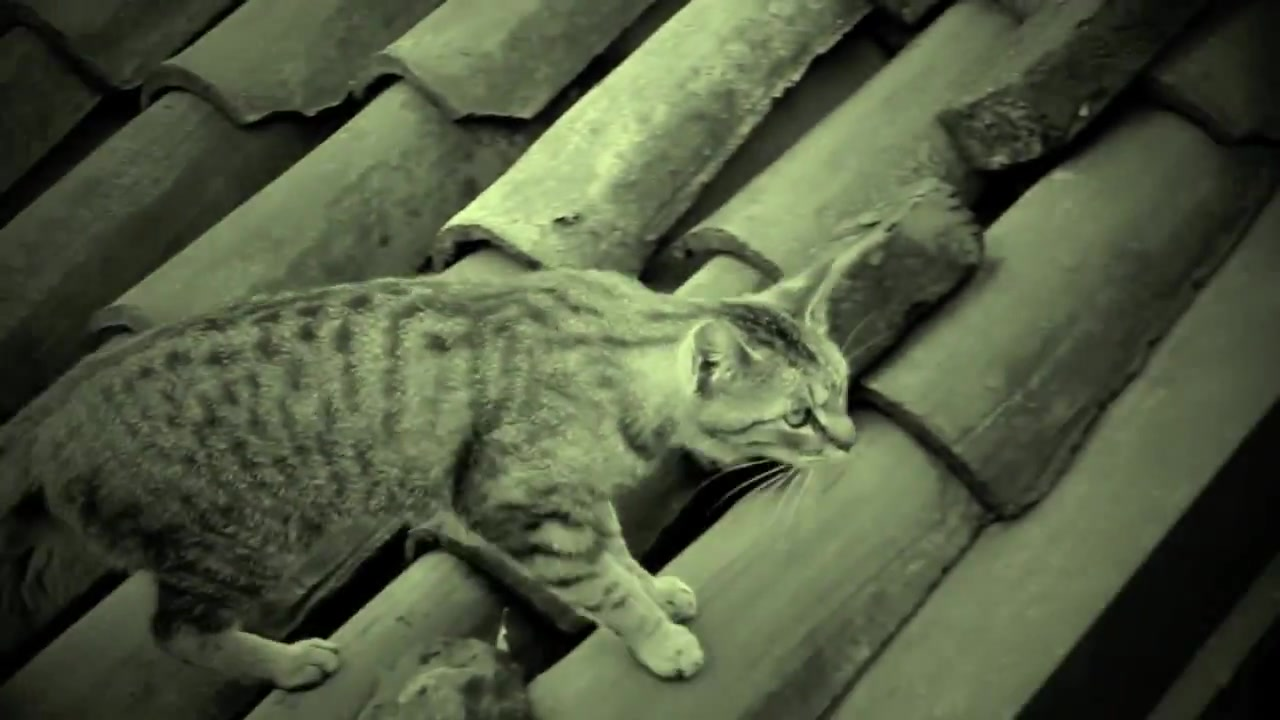cat: (2, 260, 860, 692)
